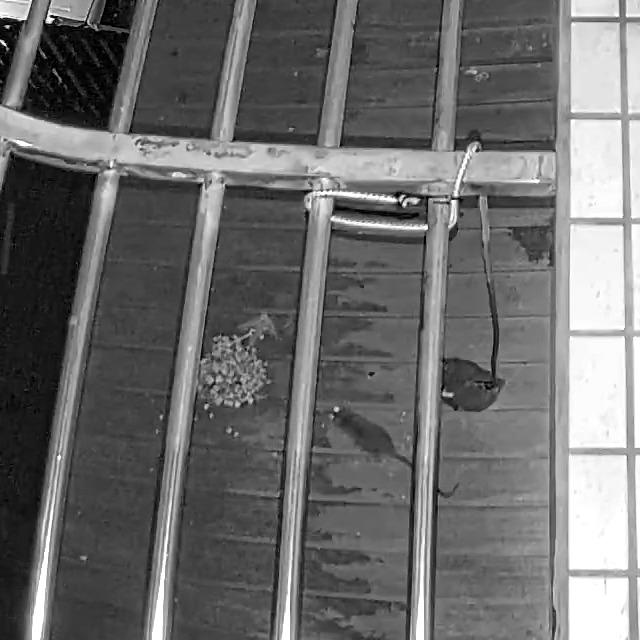rat: (326, 403, 462, 501)
